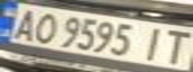5: (112, 20, 142, 58), (75, 16, 100, 52)
9: (54, 14, 84, 50), (93, 18, 118, 55)
A: (3, 6, 42, 42)
I: (136, 25, 172, 62)
O: (27, 10, 63, 45)
T: (154, 27, 193, 66)
